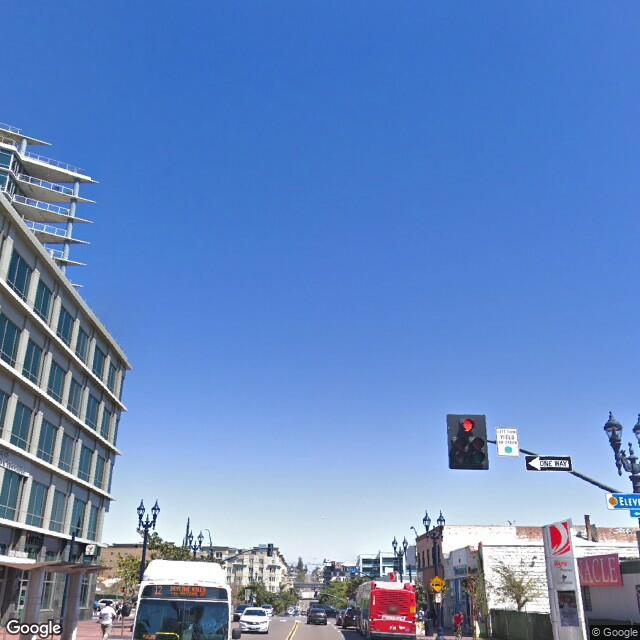light: (607, 414, 624, 459)
window: (48, 355, 65, 398), (29, 484, 46, 523), (27, 334, 42, 378), (40, 419, 53, 463), (77, 440, 92, 478)
